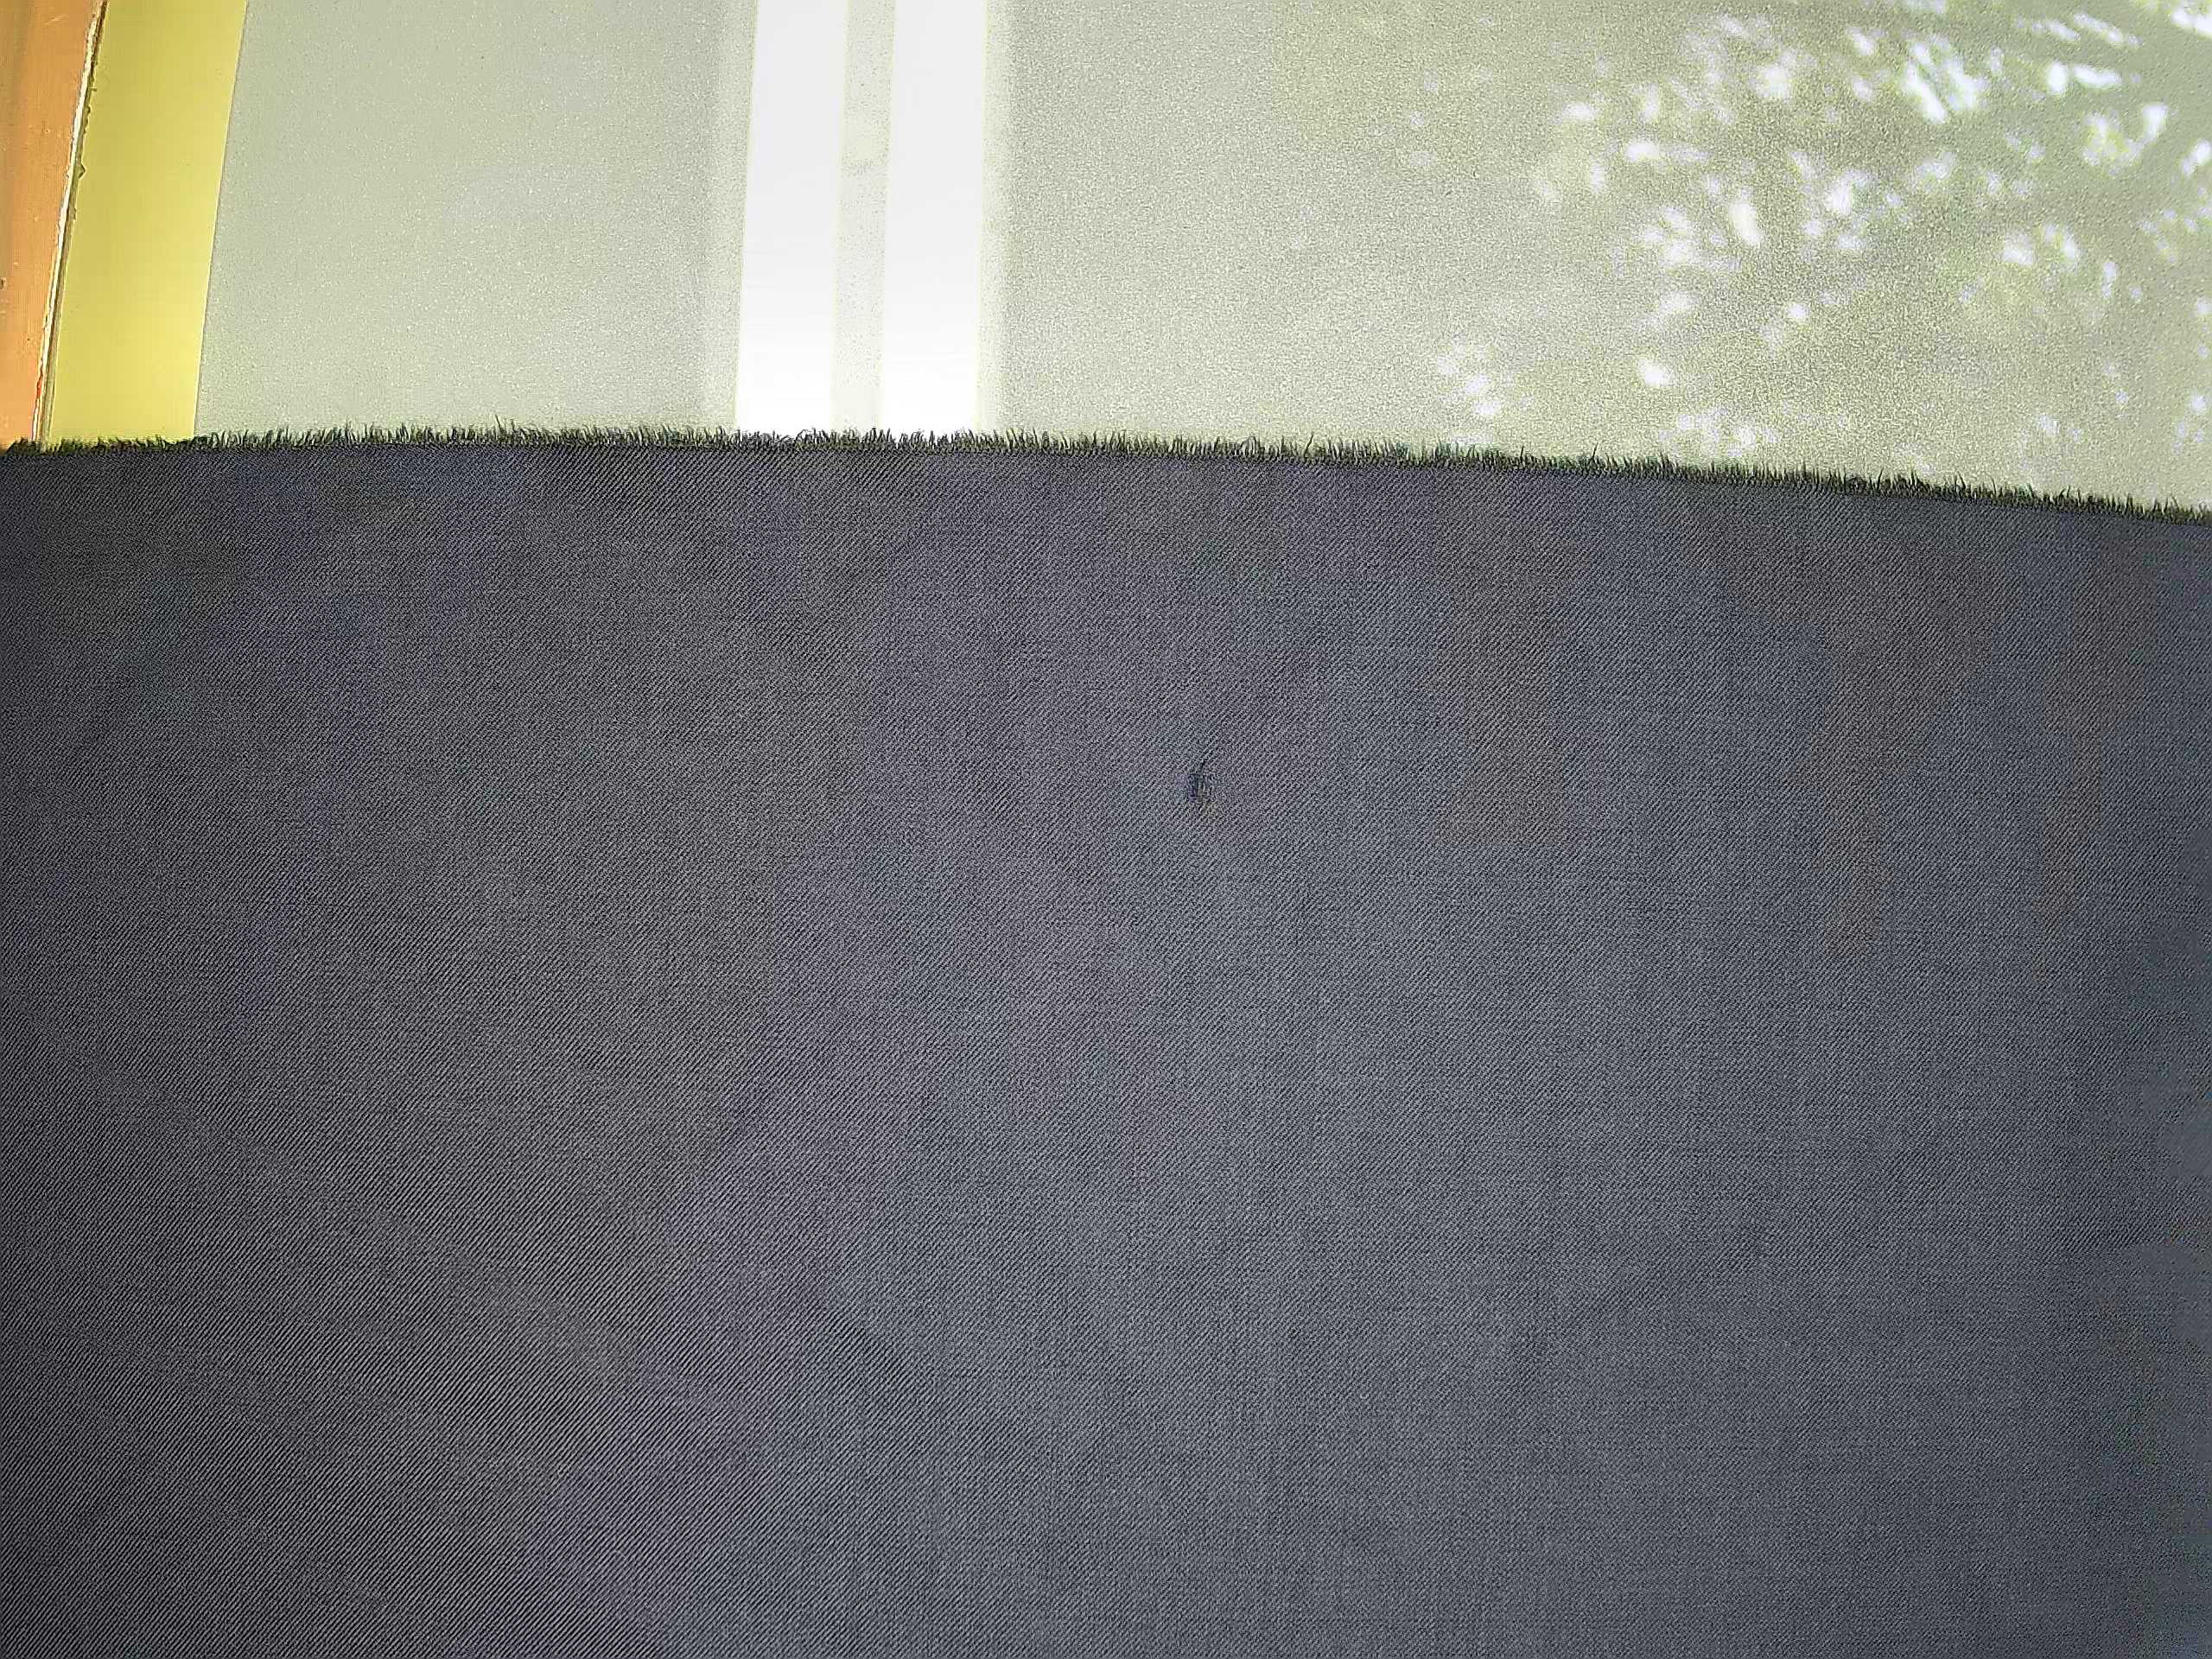rubbing-hole: (1155, 727, 1247, 836)
